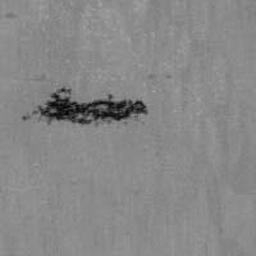Inclusion: (19, 87, 151, 128)
